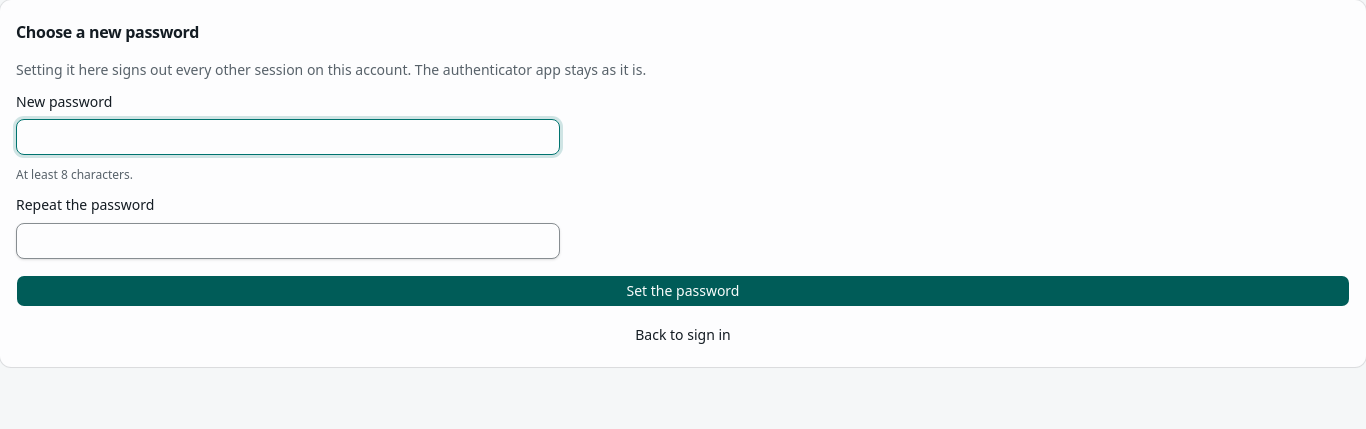
SignIn password recovery › opens the new-password form from the emailed link and takes the token out of the address bar
Expected: the heading "Choose a new password" is shown, [16,16,199,48]
Type "a-new-password" into the password field labelled "New password" at (288, 137), box [16,119,560,155]
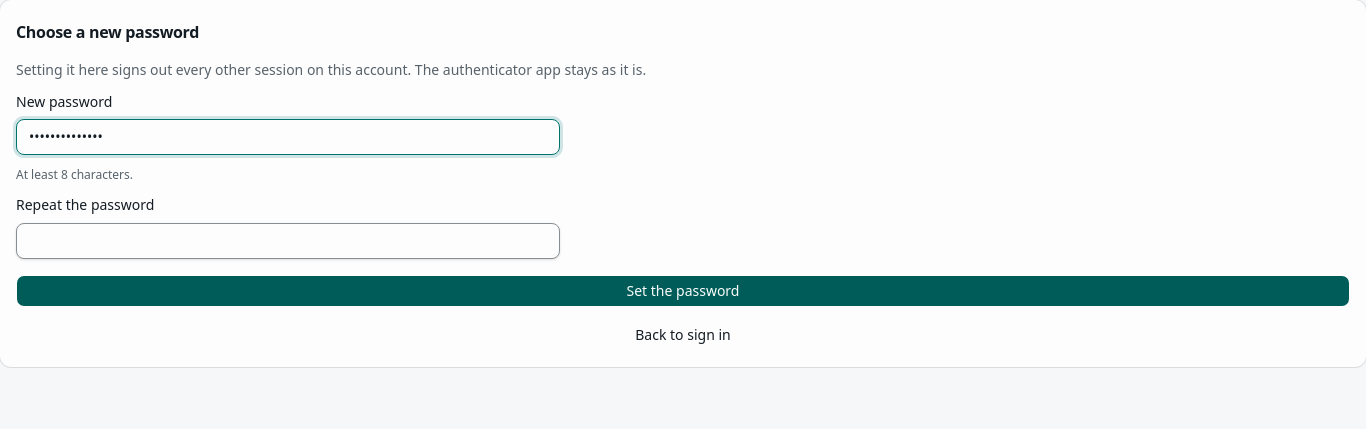
Type "a-new-password" into the password field labelled "Repeat the password" at (288, 240), box [16,222,560,258]
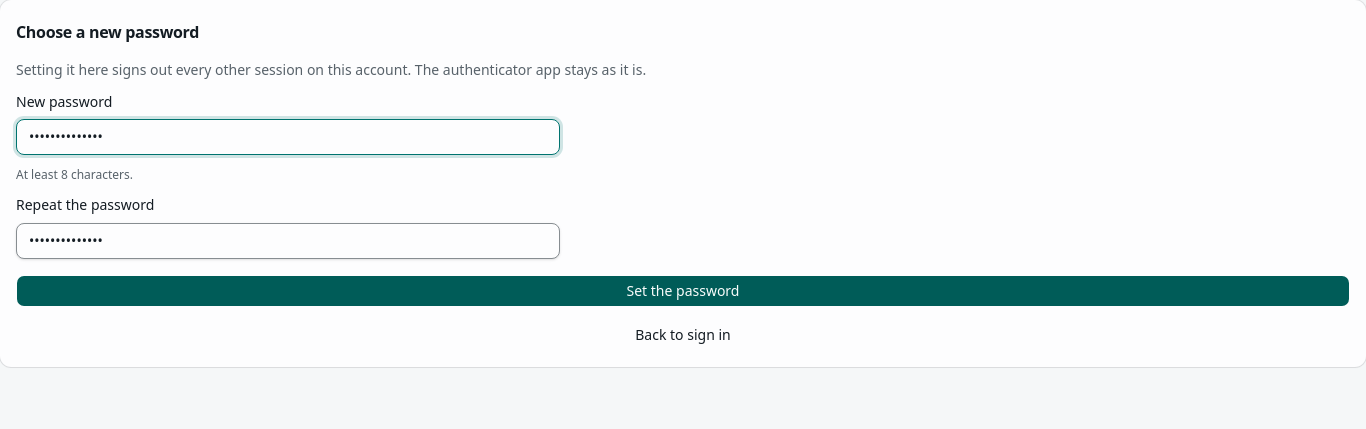
Click the button "Set the password" at (683, 290), box [16,274,1350,306]
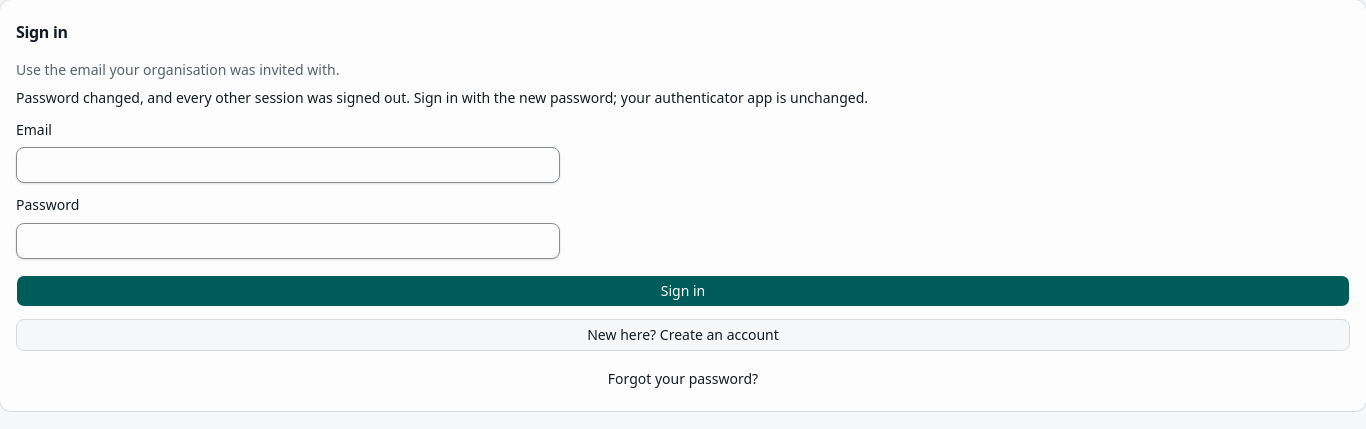
Expected: the heading "Sign in" is shown, [16,16,68,48]
Expected: the message shows "Password changed", [16,88,868,107]
